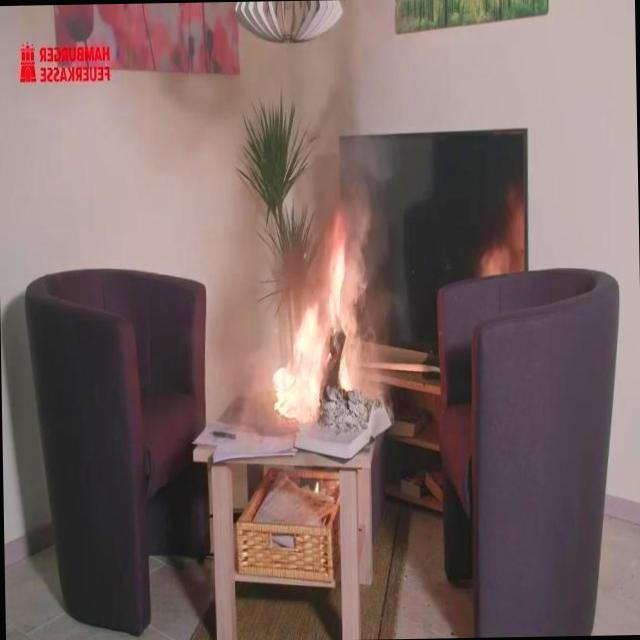fire: (266, 192, 380, 436)
